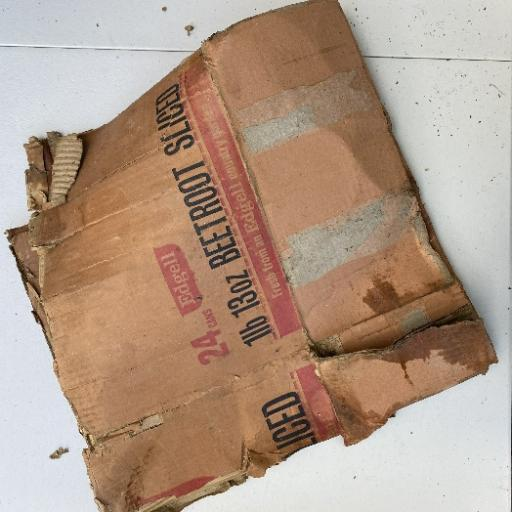Cardboard: (4, 1, 499, 510)
